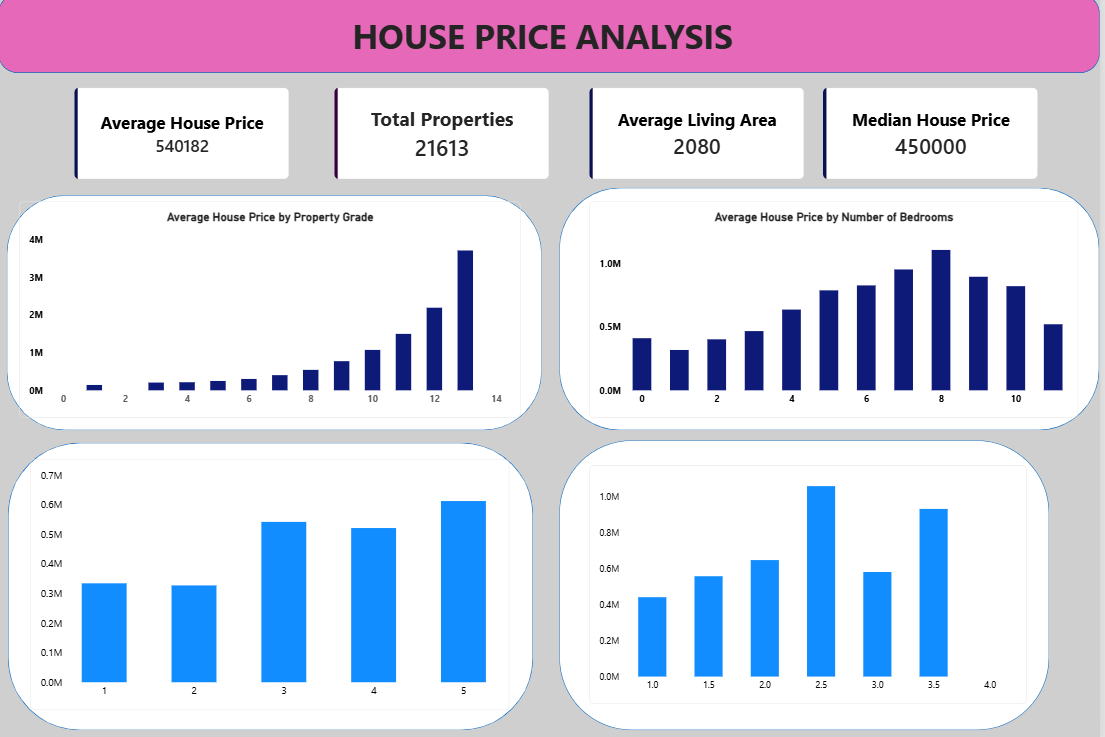

The page's visual inventory and layout, read from the dashboard file:
{"tool":"powerbi","page":{"name":"Page 1","canvas":[1920,1300],"ordinal":0},"visuals":[{"type":"shape","box":[0,0,1920.1,137.5],"z":0},{"type":"cardVisual","fields":{"Data":["Avg(house_sales_powerbi.price)"]},"box":[132.1,162.9,374.6,159.3],"z":1000},{"type":"cardVisual","title":"Total Properties","fields":{"Data":["Count(house_sales_powerbi.id)"]},"box":[586.3,162.9,374,159],"z":2000},{"type":"textbox","box":[14.5,32.6,1867.6,86.9],"z":3000},{"type":"cardVisual","title":"Total Properties","fields":{"Data":["Avg(house_sales_powerbi.sqft_living)"]},"box":[1029.7,162.9,374,159],"z":4000},{"type":"cardVisual","title":"Total Properties","fields":{"Data":["Median(house_sales_powerbi.price)"]},"box":[1438.7,162.9,374,159],"z":5000},{"type":"shape","box":[15.2,350.7,932.3,409.5],"z":6000},{"type":"clusteredColumnChart","title":"Average House Price by Property Grade","fields":{"Category":["house_sales_powerbi.grade"],"Y":["Avg(house_sales_powerbi.price)"]},"box":[37,361.6,873.5,376.8],"z":7000},{"type":"shape","box":[978.1,337.6,941,422.6],"z":8000},{"type":"clusteredColumnChart","title":"Average House Price by Number of Bedrooms","fields":{"Category":["house_sales_powerbi.bedrooms"],"Y":["Avg(house_sales_powerbi.price)"]},"box":[1030.3,361.6,851.7,376.8],"z":9000},{"type":"shape","box":[17.4,782,914.9,501],"z":10000},{"type":"clusteredColumnChart","fields":{"Category":["house_sales_powerbi.condition"],"Y":["Avg(house_sales_powerbi.price)"]},"box":[56.6,810.3,834.3,437.8],"z":11000},{"type":"shape","box":[978.1,777.7,853.9,505.4],"z":11001},{"type":"clusteredColumnChart","title":"Average of price","fields":{"Category":["house_sales_powerbi.floors"],"Y":["Avg(house_sales_powerbi.price)"]},"box":[1030.3,821.2,762.4,416.1],"z":11002}]}

Visuals, with their boxes in screenshot pixels (x1, y1, x2, y2), scaled from the page's 1920x1300 canvas onto the 1105x737 screenshot:
shape: [x1=0, y1=0, x2=1104, y2=78]
cardVisual - Avg(house_sales_powerbi.price): [x1=76, y1=92, x2=292, y2=183]
"Total Properties" cardVisual: [x1=337, y1=92, x2=553, y2=182]
textbox: [x1=8, y1=18, x2=1083, y2=68]
"Total Properties" cardVisual: [x1=593, y1=92, x2=808, y2=182]
"Total Properties" cardVisual: [x1=828, y1=92, x2=1043, y2=182]
shape: [x1=9, y1=199, x2=545, y2=431]
"Average House Price by Property Grade" clusteredColumnChart: [x1=21, y1=205, x2=524, y2=419]
shape: [x1=563, y1=191, x2=1104, y2=431]
"Average House Price by Number of Bedrooms" clusteredColumnChart: [x1=593, y1=205, x2=1083, y2=419]
shape: [x1=10, y1=443, x2=537, y2=727]
clusteredColumnChart - house_sales_powerbi.condition x Avg(house_sales_powerbi.price): [x1=33, y1=459, x2=513, y2=708]
shape: [x1=563, y1=441, x2=1054, y2=727]
"Average of price" clusteredColumnChart: [x1=593, y1=466, x2=1032, y2=701]
